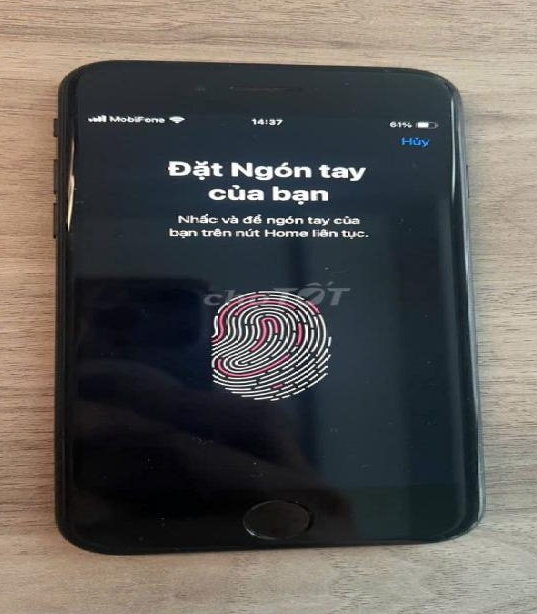scratch: (337, 57, 454, 95)
screen_defect: (53, 127, 88, 231)
